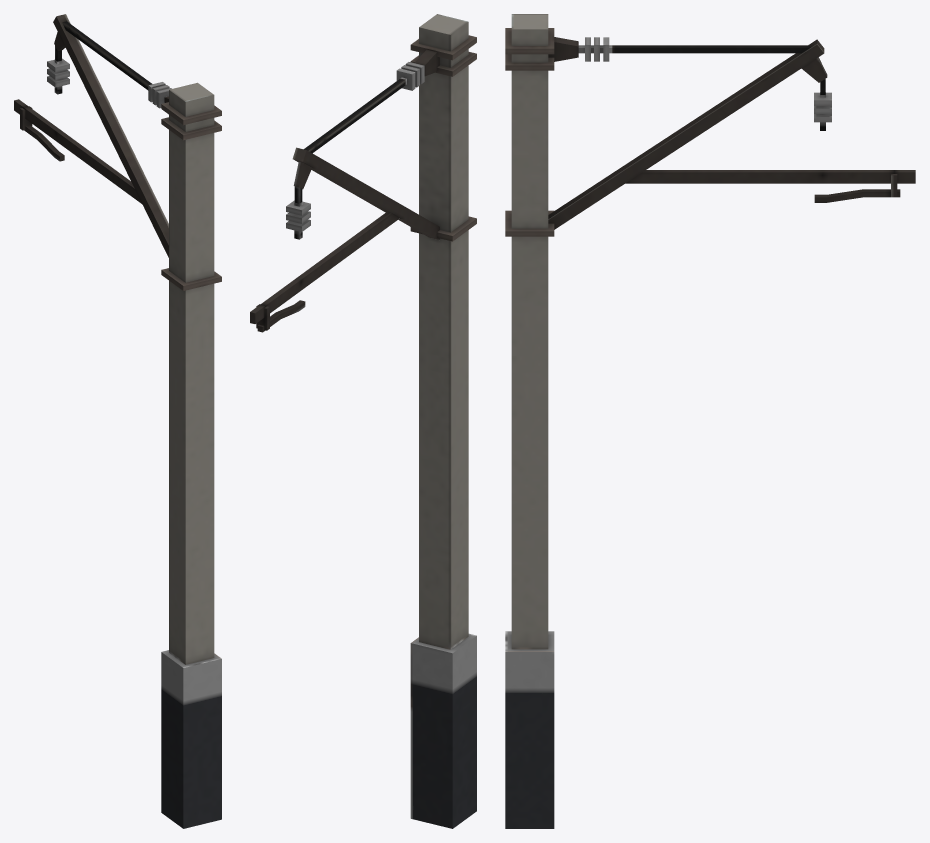
The model's file is mvp_ir_elfpole.obj.
3 renders of one model, left to right at view 1: azimuth 30°, elevation 25°; view 2: azimuth 150°, elevation 25°; view 3: azimuth 270°, elevation 25°, orthographic. The views are drawn at different scales.
Visible parts, largest first — view 1: RAIL_BASE_elfpole; view 2: RAIL_BASE_elfpole; view 3: RAIL_BASE_elfpole.
Part boxes in pixels (x1,y1,x2,y2): RAIL_BASE_elfpole: [14, 14, 221, 828]; RAIL_BASE_elfpole: [250, 14, 476, 828]; RAIL_BASE_elfpole: [505, 14, 915, 828].
Bounding box in the file's own units: 0.5 × 9 × 4.2.
Materials: 1 (1 with a texture image).
